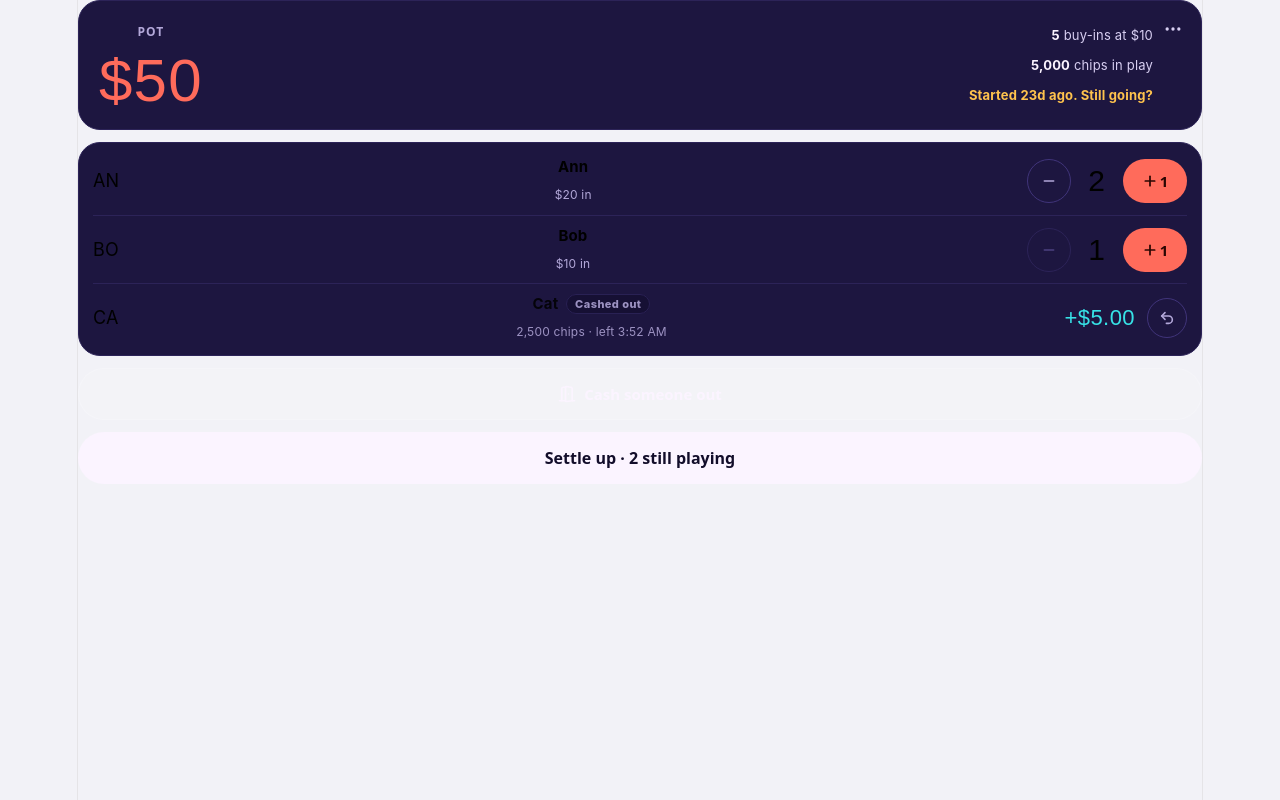
Test: LiveGame › offers an undo after adding a buy-in
Click the button named "Add a buy-in for Bob". click: [1155, 250]
box: [1123,228,1187,272]
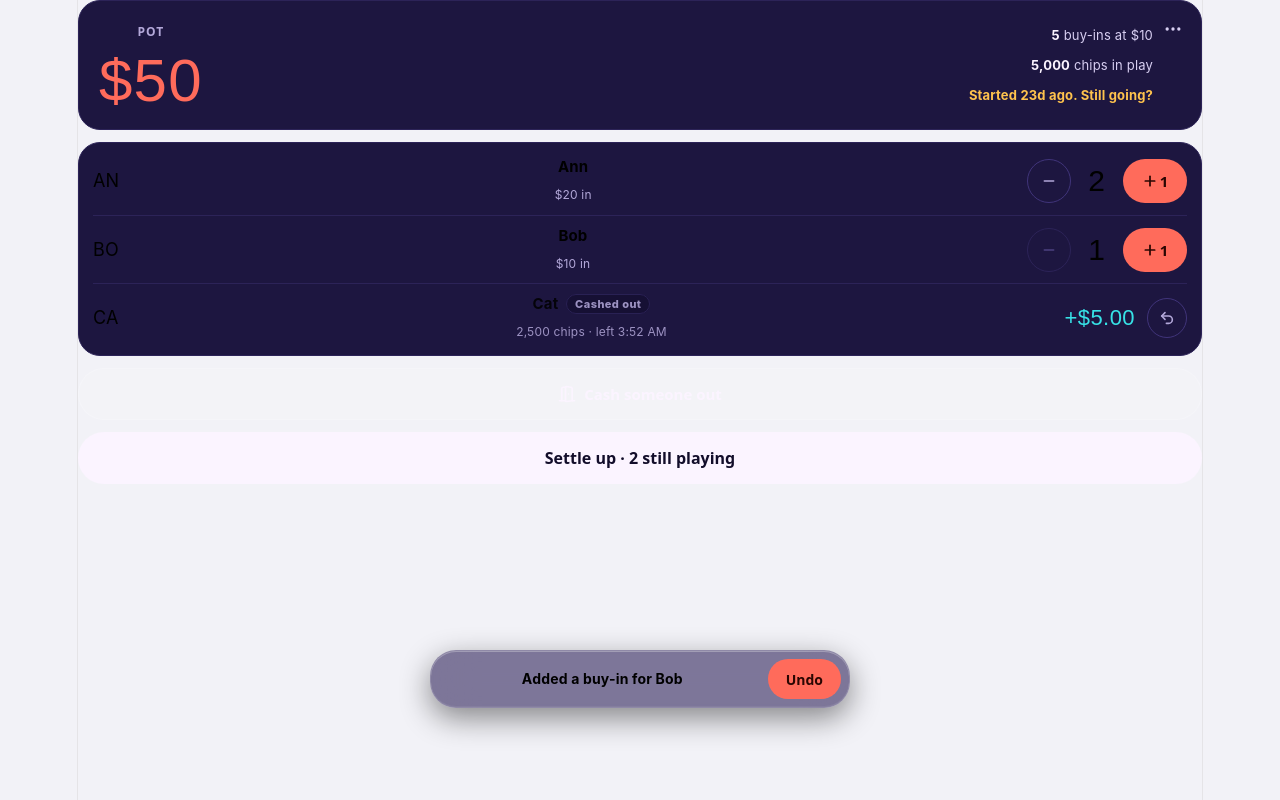
Now the text "Added a buy-in for Bob" is shown, box [522,670,683,687]
Click the button "Undo". click: [804, 679]
box: [768,659,841,699]
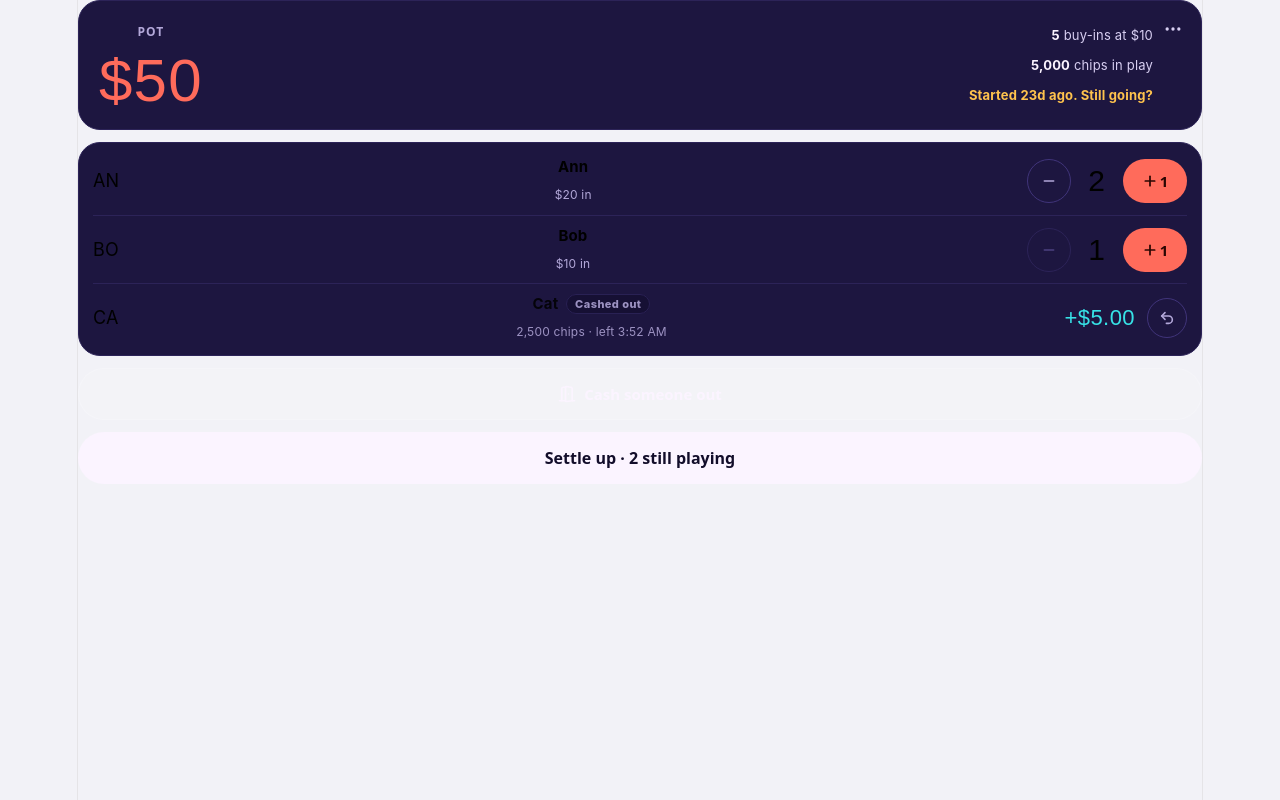
Now the text "Added a buy-in for Bob" is gone
